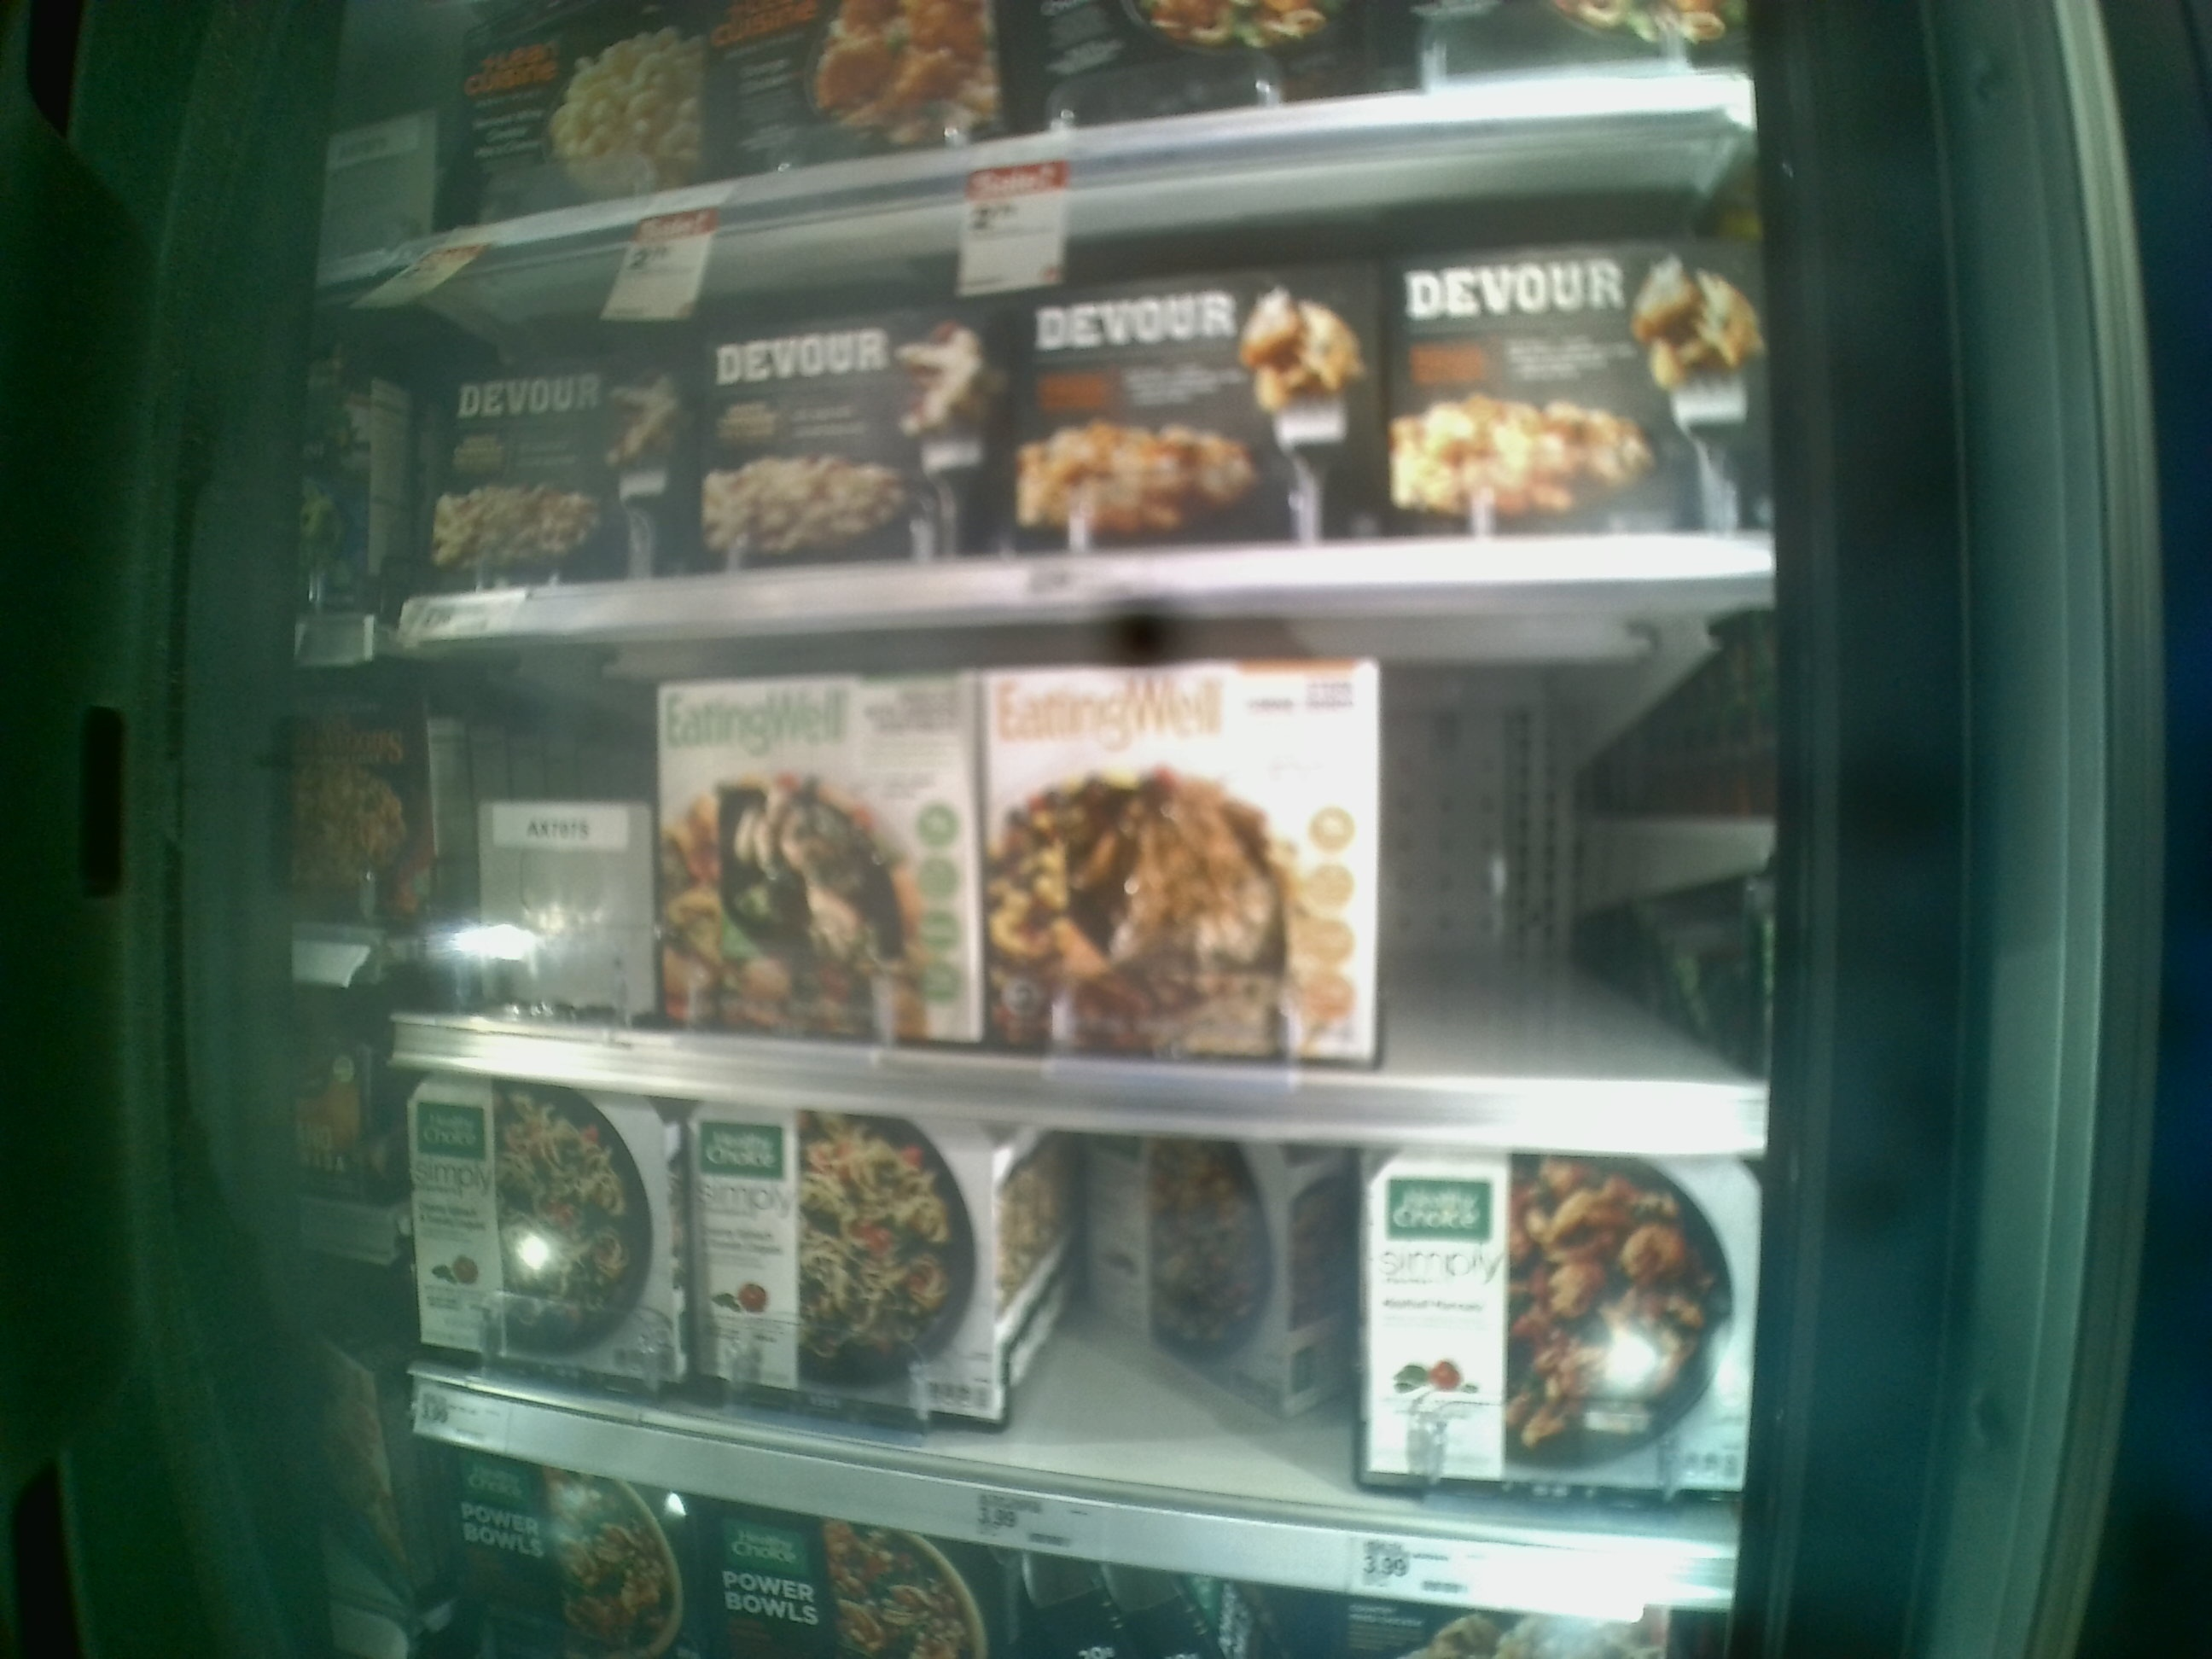shelf: (394, 582, 1771, 1168), (390, 1056, 1738, 1614)
